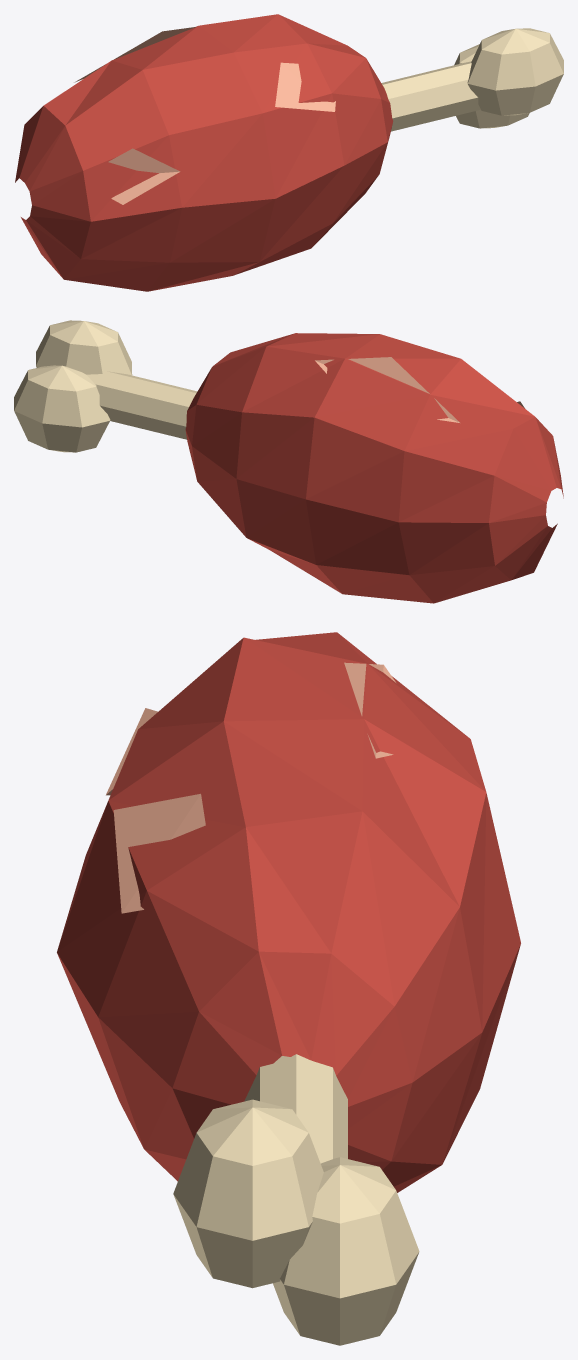
The model's file is meat_bait.glb.
3 renders of one model, top to bottom at view 1: azimuth 30°, elevation 25°; view 2: azimuth 150°, elevation 25°; view 3: azimuth 270°, elevation 25°, orthographic. The views are drawn at different scales.
Parts seen in each view (by area): view 1: Meat, Bone, Fat_Patches; view 2: Meat, Bone, Fat_Patches; view 3: Meat, Bone, Fat_Patches.
Part boxes in pixels (<box>): Meat: <box>15,14,393,291</box>; Bone: <box>381,28,563,131</box>; Fat_Patches: <box>74,27,335,204</box>; Meat: <box>185,333,563,603</box>; Bone: <box>14,320,197,452</box>; Fat_Patches: <box>315,357,524,422</box>; Meat: <box>57,632,520,1192</box>; Bone: <box>173,1054,419,1345</box>; Fat_Patches: <box>106,662,395,913</box>.
Size of the model in its own units: 1.56 by 0.6716 by 0.5845.
